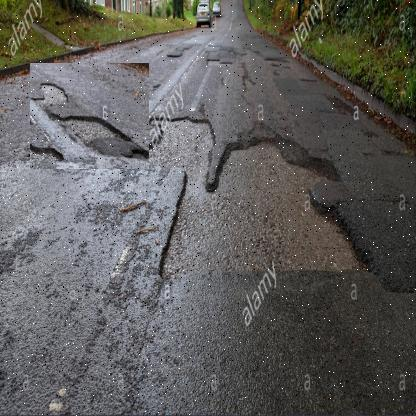damage: (159, 90, 362, 321), (30, 63, 150, 170)
